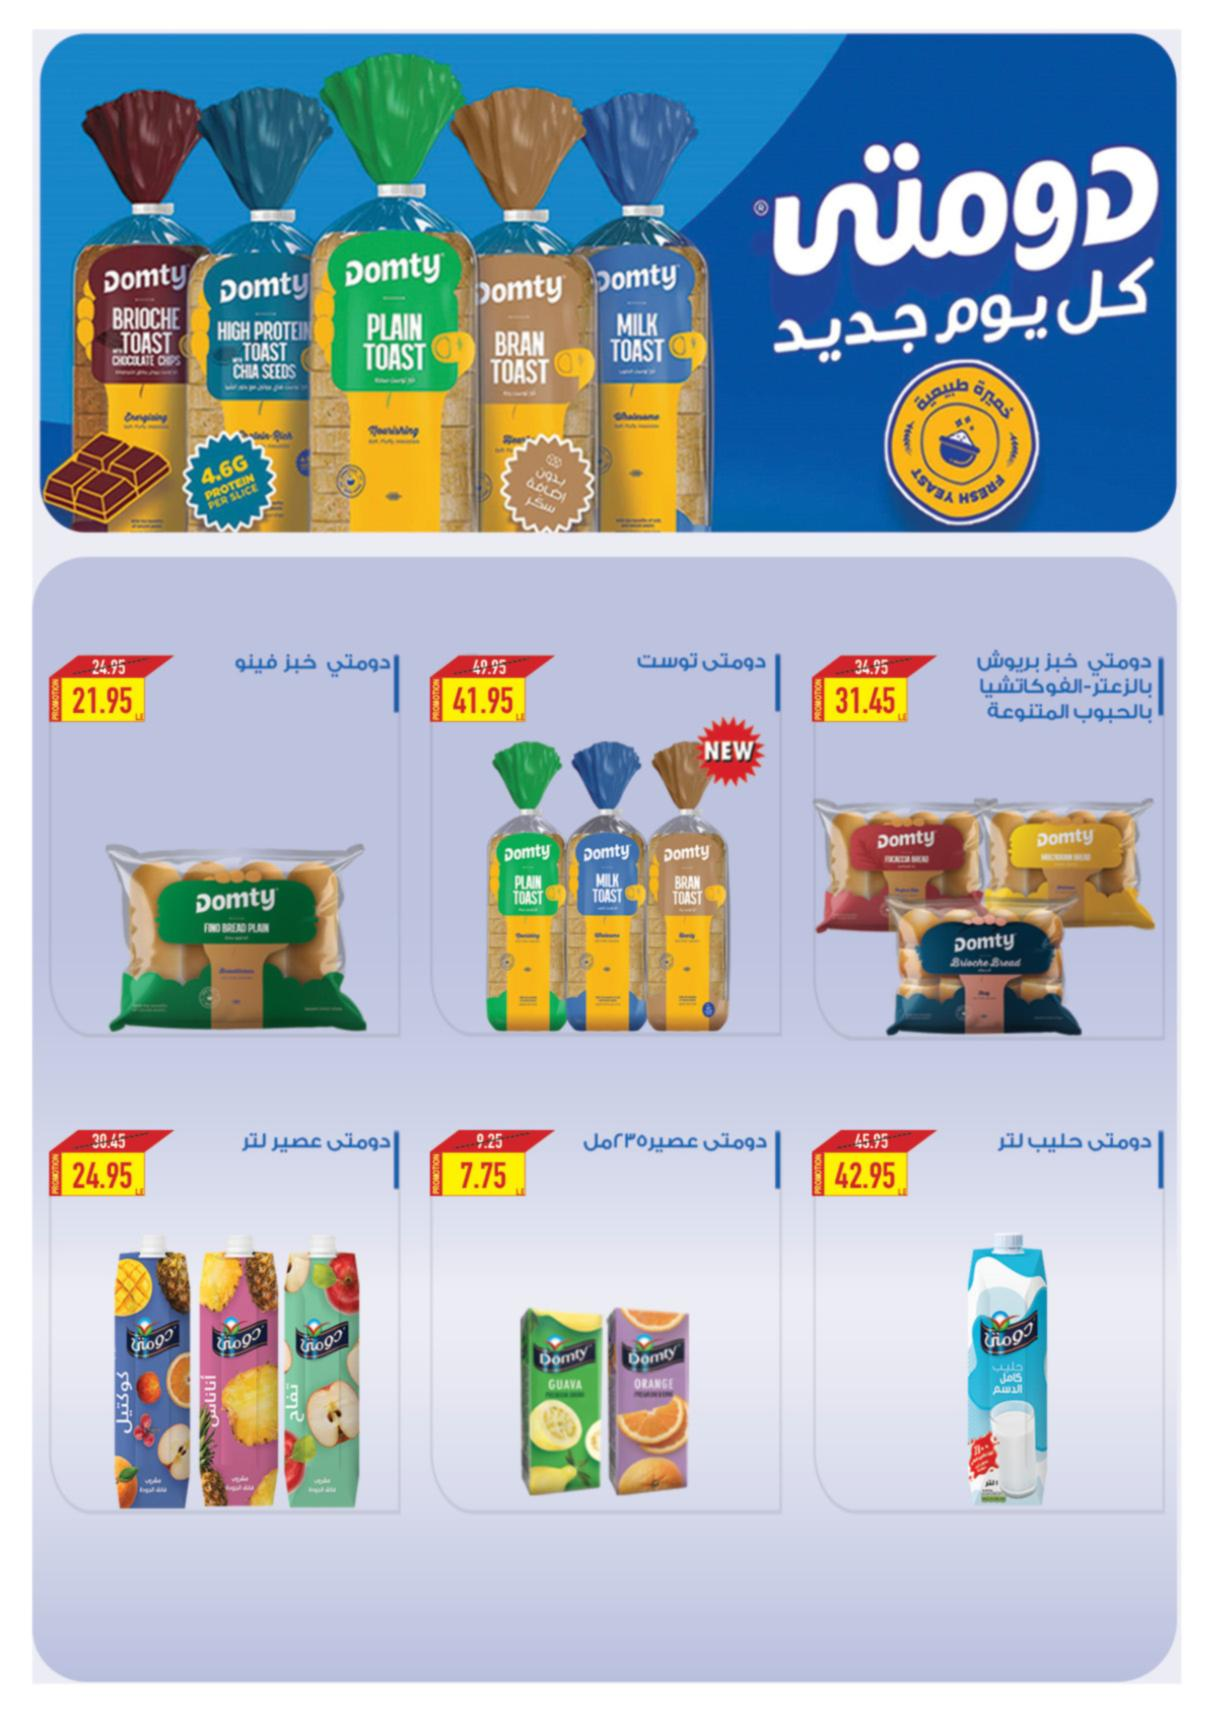product: (813, 645, 1164, 1038), (430, 645, 780, 1037), (429, 1125, 782, 1511), (811, 1125, 1165, 1510), (50, 645, 398, 1035), (48, 1126, 401, 1510)
